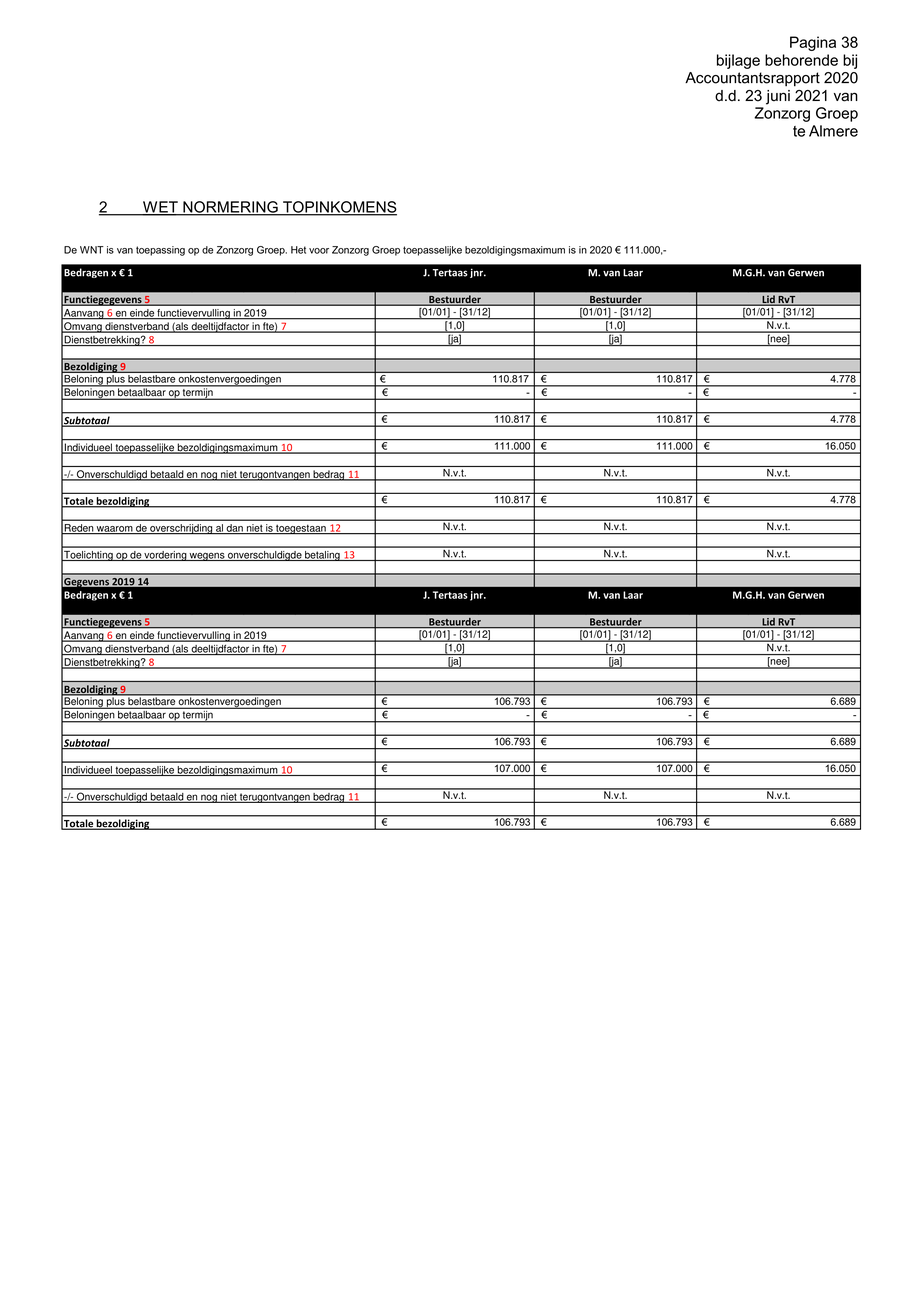coulmn: (62, 266, 370, 829), (700, 263, 863, 828), (536, 268, 697, 833), (377, 262, 536, 833)
